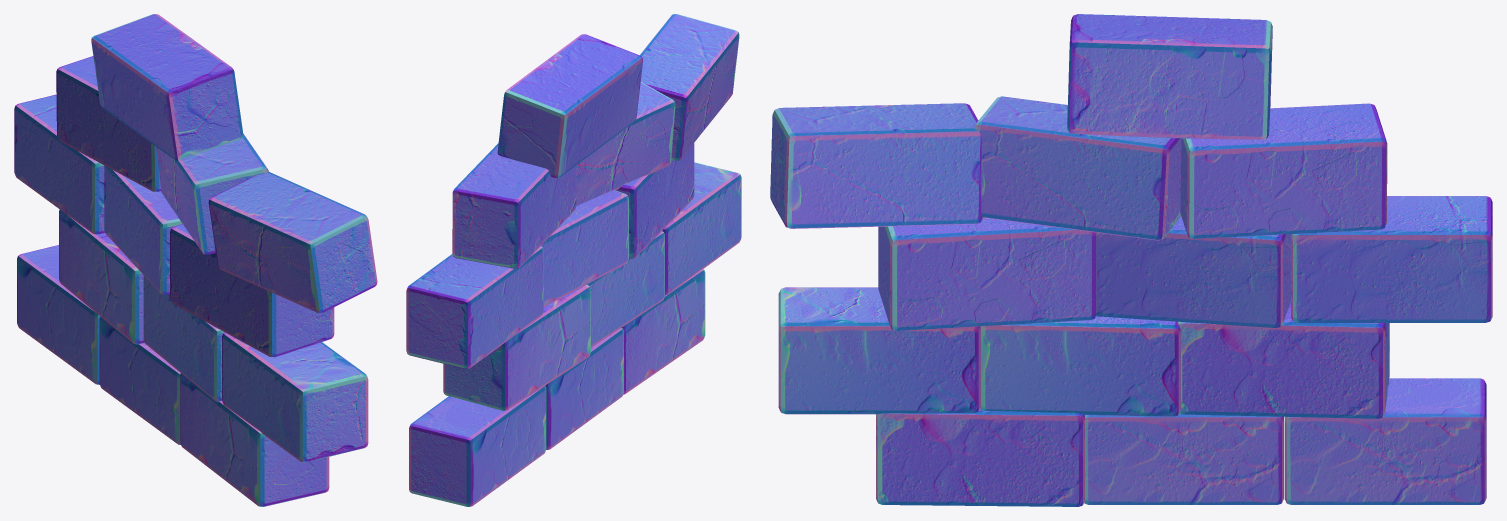
Rendered from Dungeon_WallBricksLargeFade4.fbx.
3 views of the same model, side by side, from view 1: azimuth 30°, elevation 25°; view 2: azimuth 150°, elevation 25°; view 3: azimuth 270°, elevation 25° (orthographic). The views are drawn at different scales.
Visible parts, largest first — view 1: MeshHP; view 2: MeshHP; view 3: MeshHP.
Part boxes in pixels (x1,y1,x2,y2): MeshHP: (14,14,377,506); MeshHP: (406,14,741,506); MeshHP: (770,14,1492,506).
Size of the model in its own units: 0.9942 by 3.34 by 4.8.
Materials: 1 (1 with a texture image).
